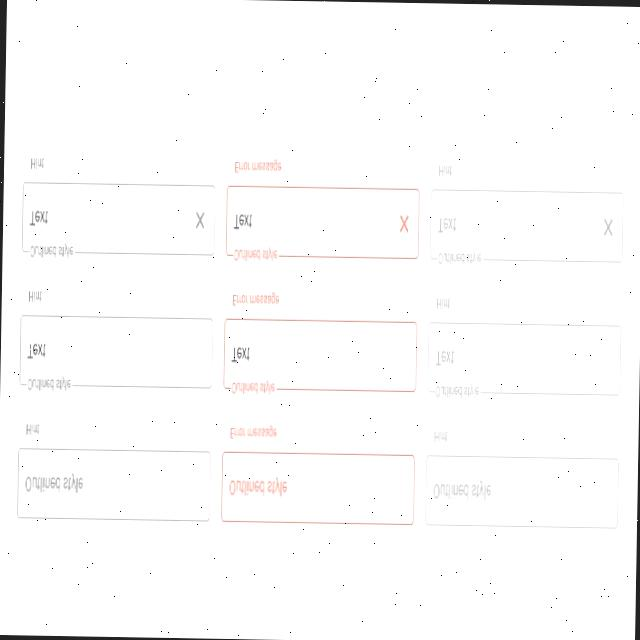VTextField: (18, 153, 215, 261), (427, 160, 624, 267), (424, 295, 622, 401), (221, 291, 417, 398), (16, 288, 213, 394), (223, 156, 420, 262), (15, 420, 211, 523), (218, 423, 414, 526), (423, 428, 619, 530)
